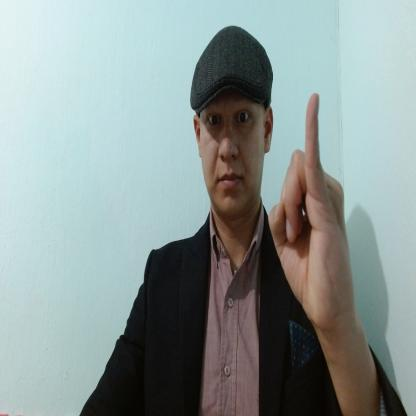I: (268, 90, 355, 328)
